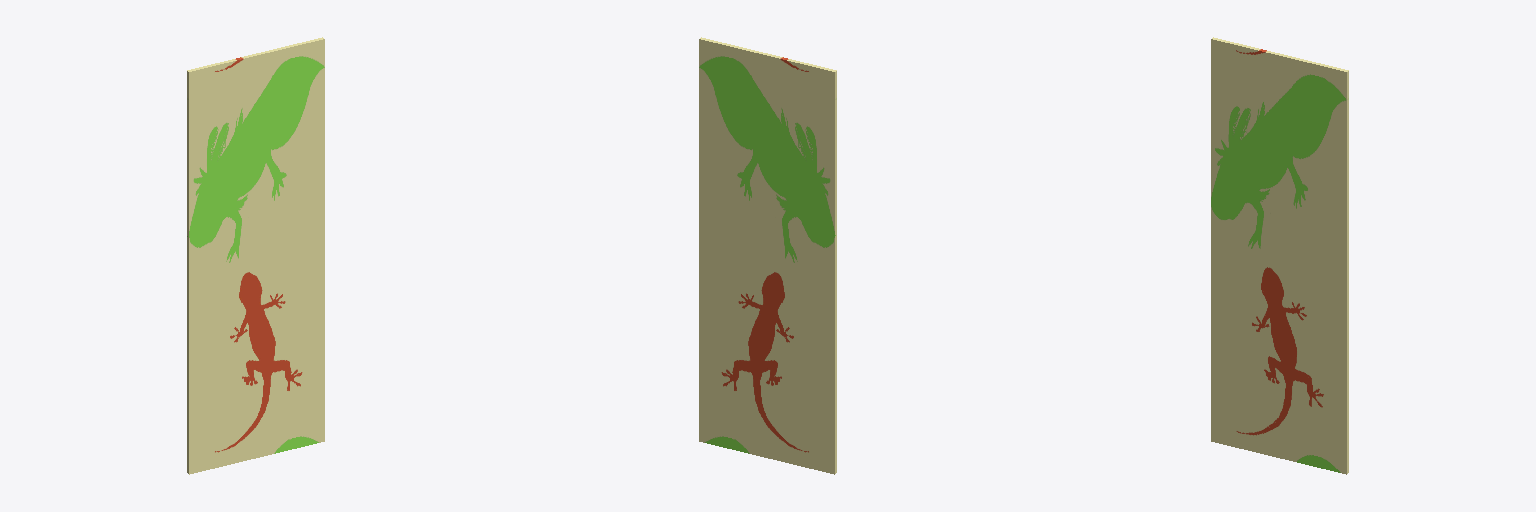
3 views of the same model, side by side, from view 1: azimuth 30°, elevation 25°; view 2: azimuth 150°, elevation 25°; view 3: azimuth 330°, elevation 25° (orthographic).
Visible parts, largest first — view 1: polySurface2183 pCylinder44; view 2: polySurface2183 pCylinder44; view 3: polySurface2183 pCylinder44.
Boxes of the visible parts, box(x1,y1,x2,y2) form: polySurface2183 pCylinder44: box(187, 37, 324, 474); polySurface2183 pCylinder44: box(699, 37, 836, 474); polySurface2183 pCylinder44: box(1211, 37, 1348, 474).
Bounding box in the file's own units: 3.64 × 10.32 × 0.1043.
Materials: 1 (1 with a texture image).